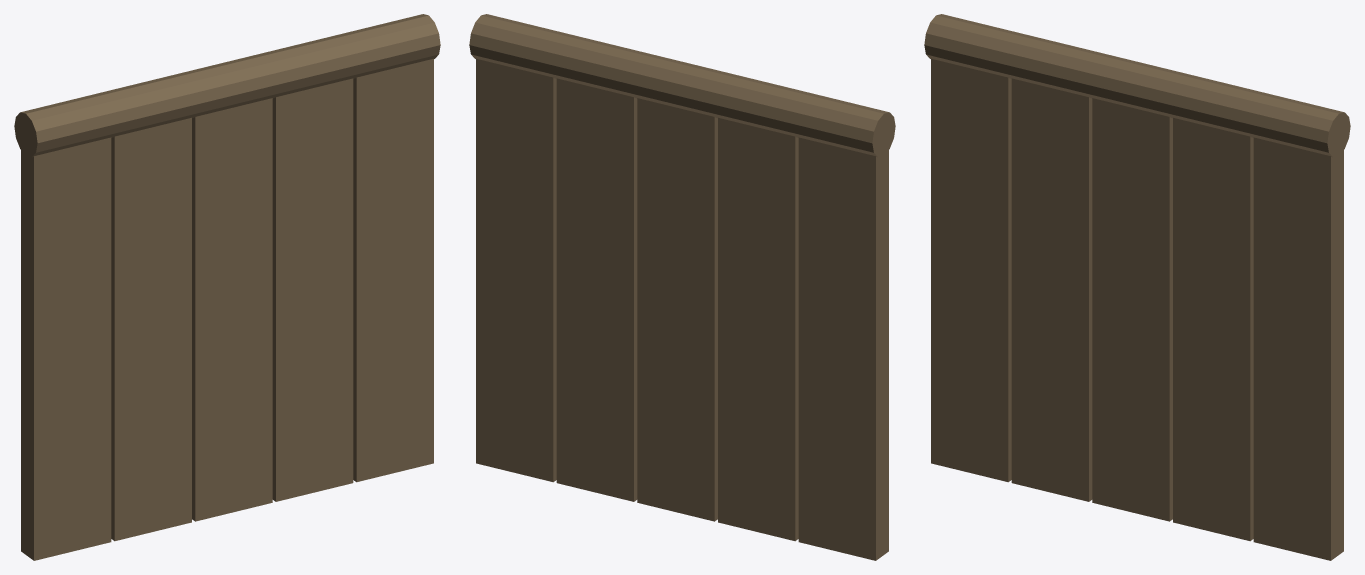
Rendered from Boarded Wall.fbx.
3 renders of one model, left to right at view 1: azimuth 30°, elevation 25°; view 2: azimuth 150°, elevation 25°; view 3: azimuth 330°, elevation 25°, orthographic.
Parts seen in each view (by area): view 1: Boarded Wall; view 2: Boarded Wall; view 3: Boarded Wall.
Part boxes in pixels (x1,y1,x2,y2): Boarded Wall: (14, 14, 440, 560); Boarded Wall: (469, 14, 895, 560); Boarded Wall: (924, 14, 1350, 560).
Size of the model in its own units: 500 by 525 by 50.
